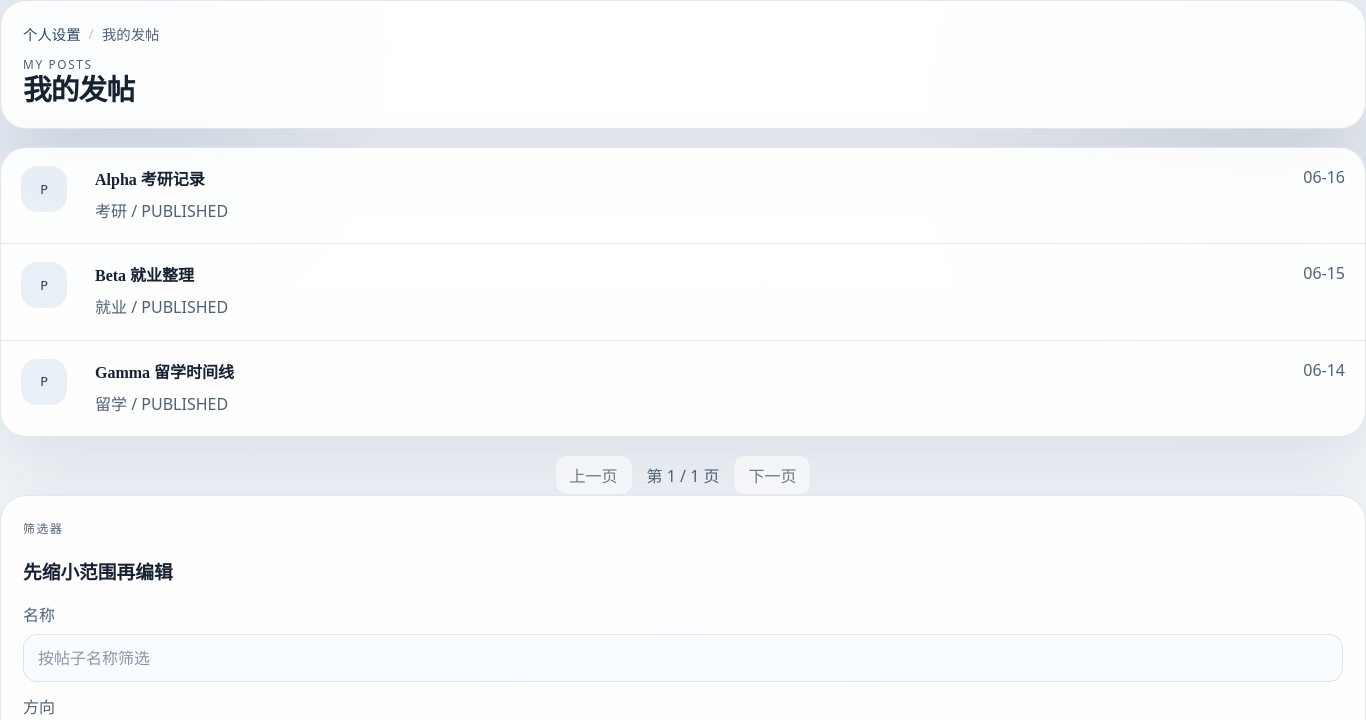
Test: SettingsPostsPage › shows a side filter panel and narrows posts by name and direction
Expected: the link "P Alpha 考研记录 考研 / PUBLISHED 06-16" is shown, [21,166,1345,222]
In the field labelled "名称": (683,658) [23,634,1343,682], type "Gamma"
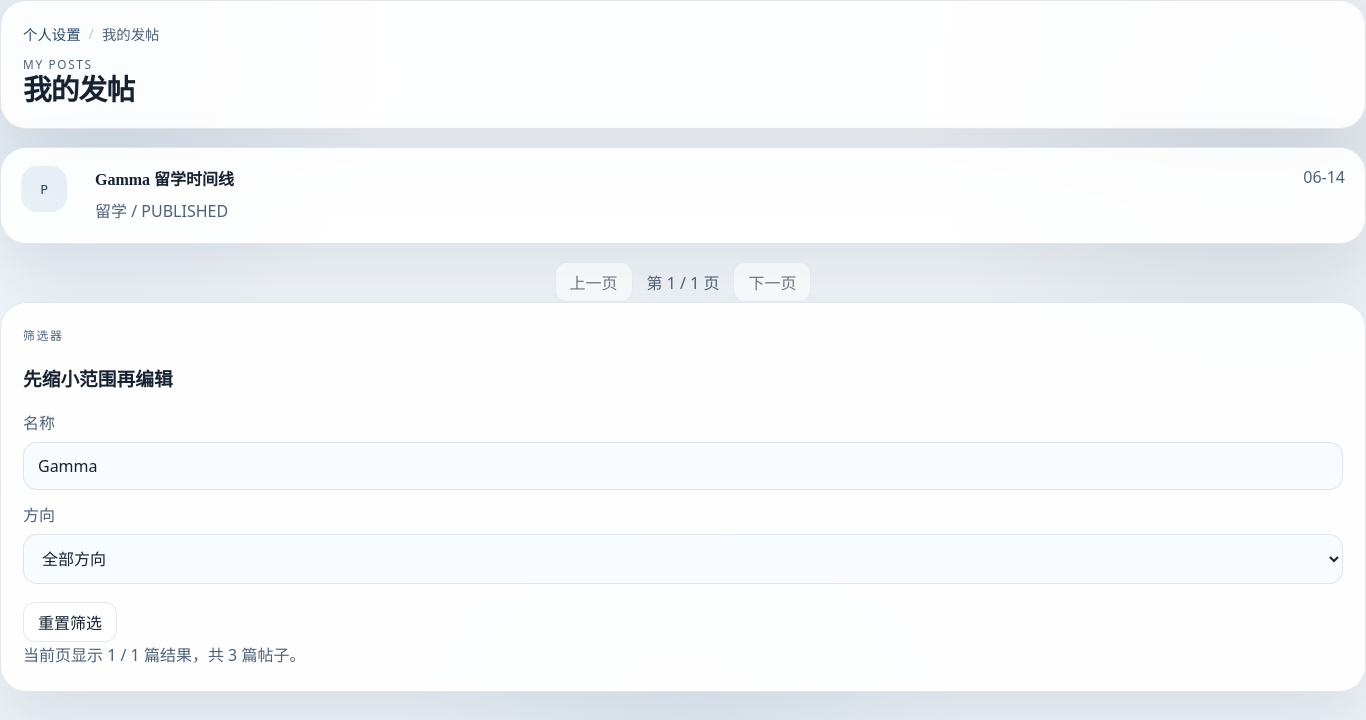
Expected: the link "P Gamma 留学时间线 留学 / PUBLISHED 06-14" is shown, [21,166,1345,222]
Expected: the link "Alpha 考研记录" is gone
Clear the field labelled "名称": (683,466) [23,442,1343,490]
(page scrolled)
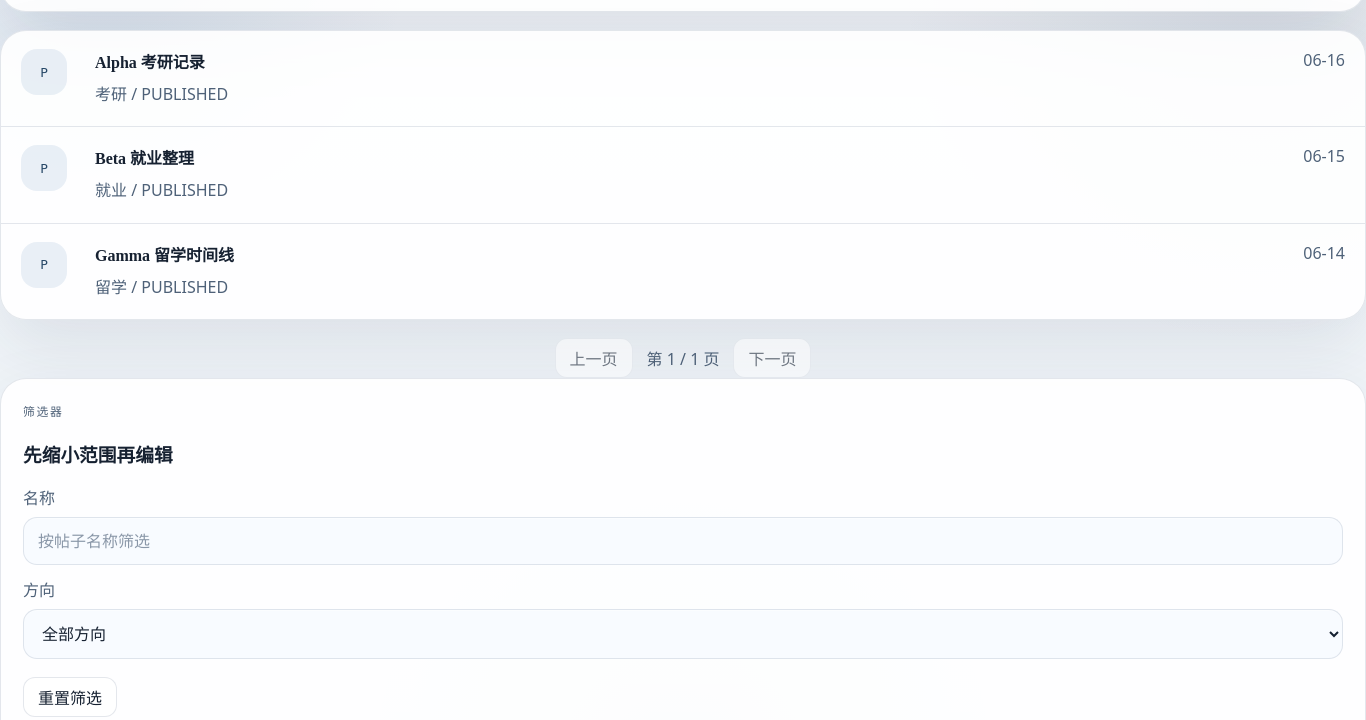
Select "就业" in the dropdown labelled "方向": (683,634) [23,609,1343,659]
(page scrolled)
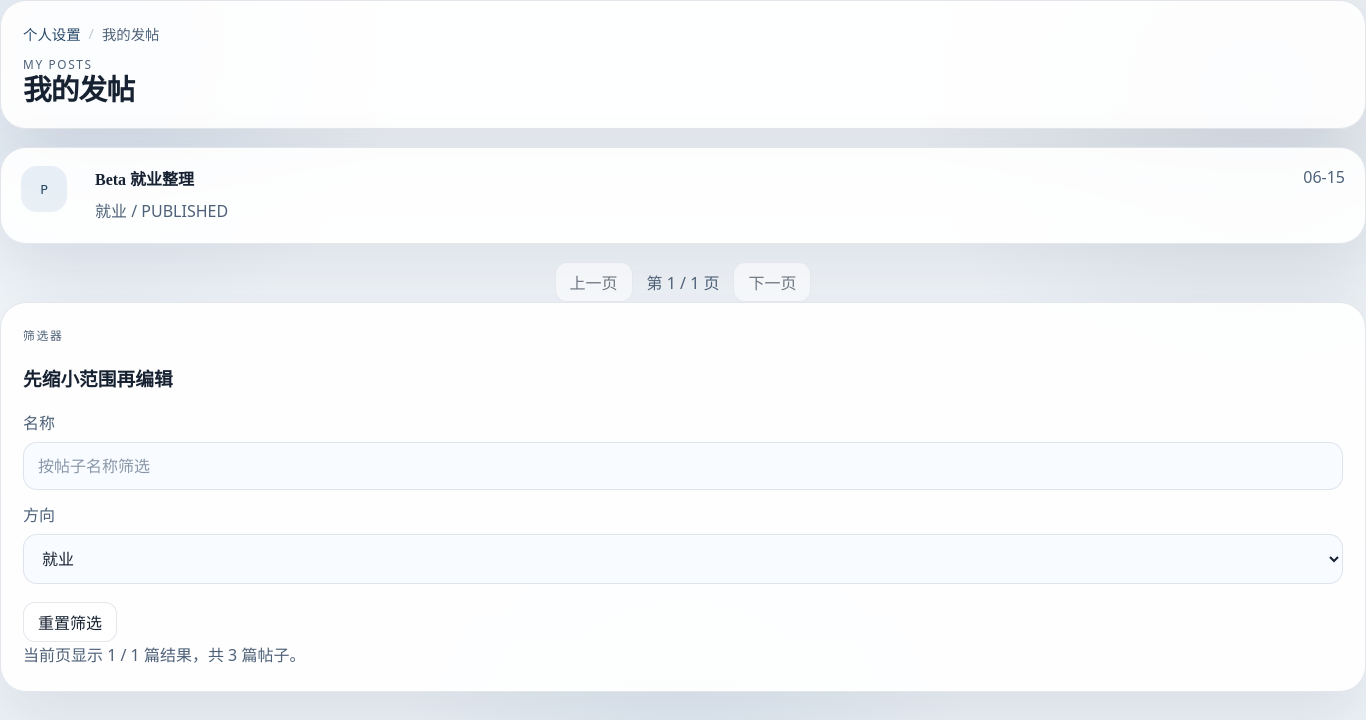
Expected: the link "P Beta 就业整理 就业 / PUBLISHED 06-15" is shown, [21,166,1345,222]
Expected: the link "Gamma 留学时间线" is gone
